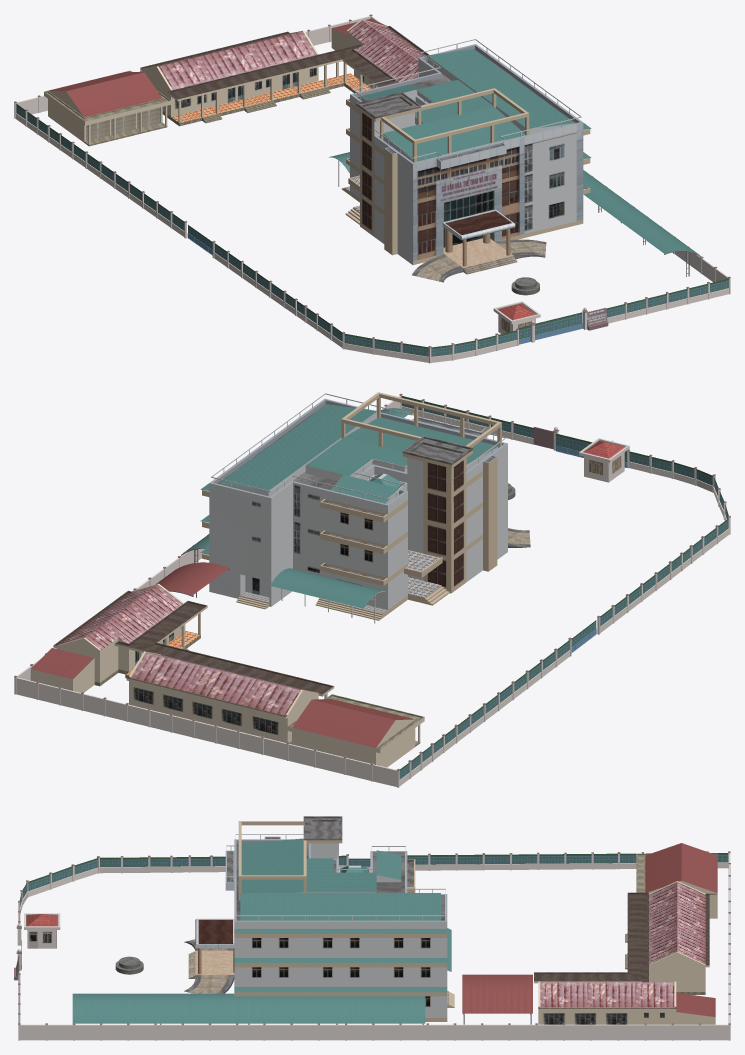
Rendered from Sở Văn Hóa Thể Thao & Du Lịch Tỉnh Bình Phước.glb.
3 views of the same model, one above another, from view 1: azimuth 30°, elevation 25°; view 2: azimuth 150°, elevation 25°; view 3: azimuth 270°, elevation 25° (orthographic). The views are drawn at different scales.
Visible parts, largest first — view 1: BPH075_2, BPH075_3, BPH075_1.003; view 2: BPH075_2, BPH075_3, BPH075_1.003; view 3: BPH075_2, BPH075_1.003, BPH075_3, BPH075_1.
Boxes of the visible parts, x1,y1,x2,y2 form: BPH075_2: (329,39,591,282); BPH075_3: (44,18,429,146); BPH075_1.003: (14,14,730,363); BPH075_2: (200,392,530,623); BPH075_3: (30,562,424,767); BPH075_1.003: (14,393,730,787); BPH075_2: (184,816,454,1021); BPH075_1.003: (14,851,730,1040); BPH075_3: (462,843,717,1024); BPH075_1: (115,956,143,974).
Size of the model in its own units: 46.27 by 15.2 by 81.04.
3 materials, 3 textured.
